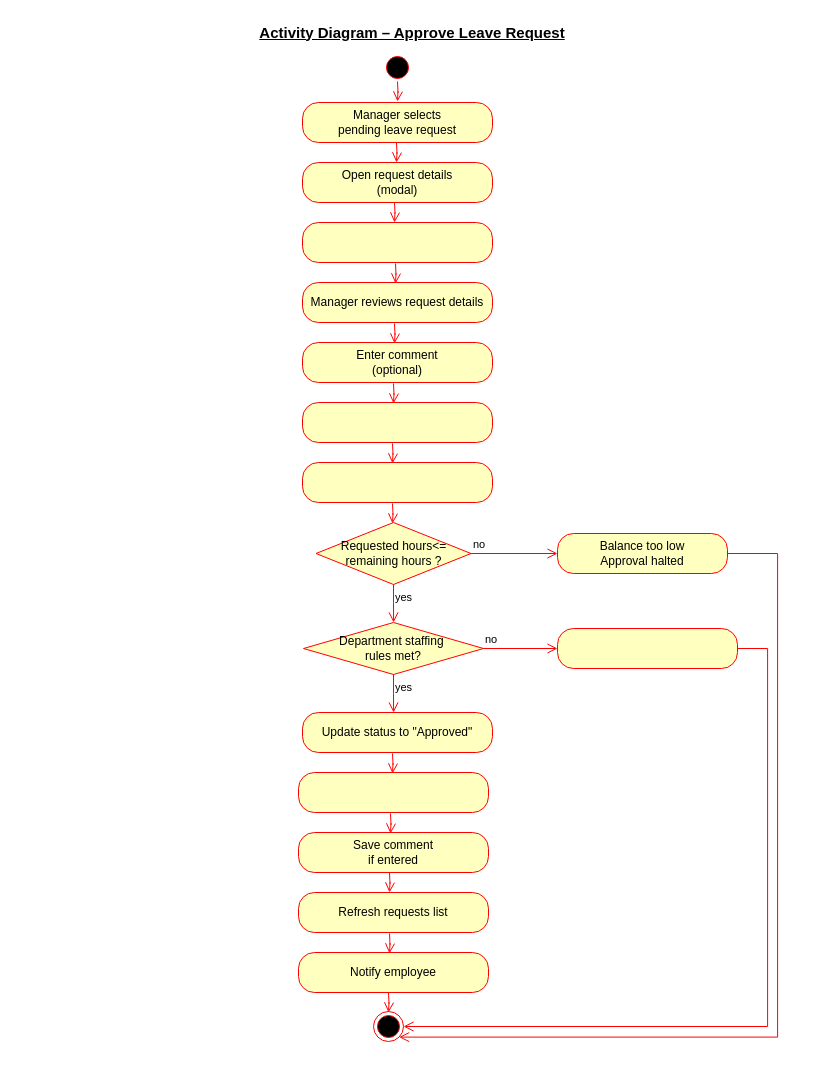
This 824x1065 diagram has some shape labels left out. The centre of each missing label's shape, as x and y in pixels:
Click "Approve": point 397,422
Deduct hours from remaining balance: point 393,792
Display request details: point 397,242
Staffing limit Approval halted: point 647,648
System validates request: point 397,482
